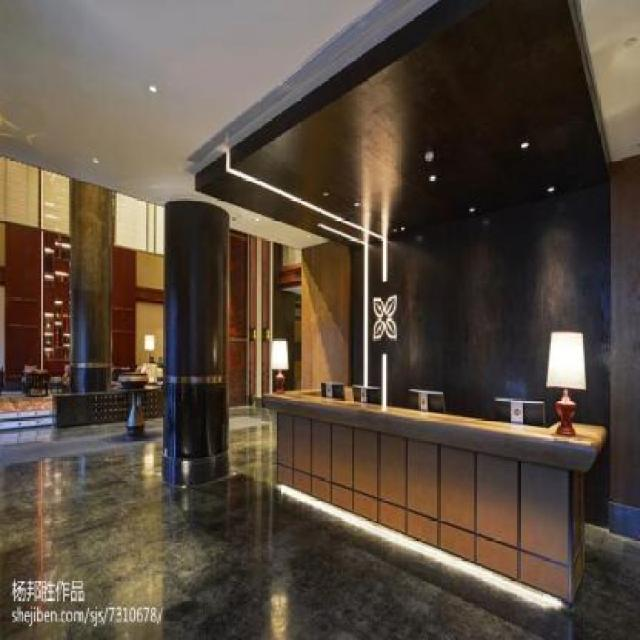frontdesk: (253, 371, 612, 618)
